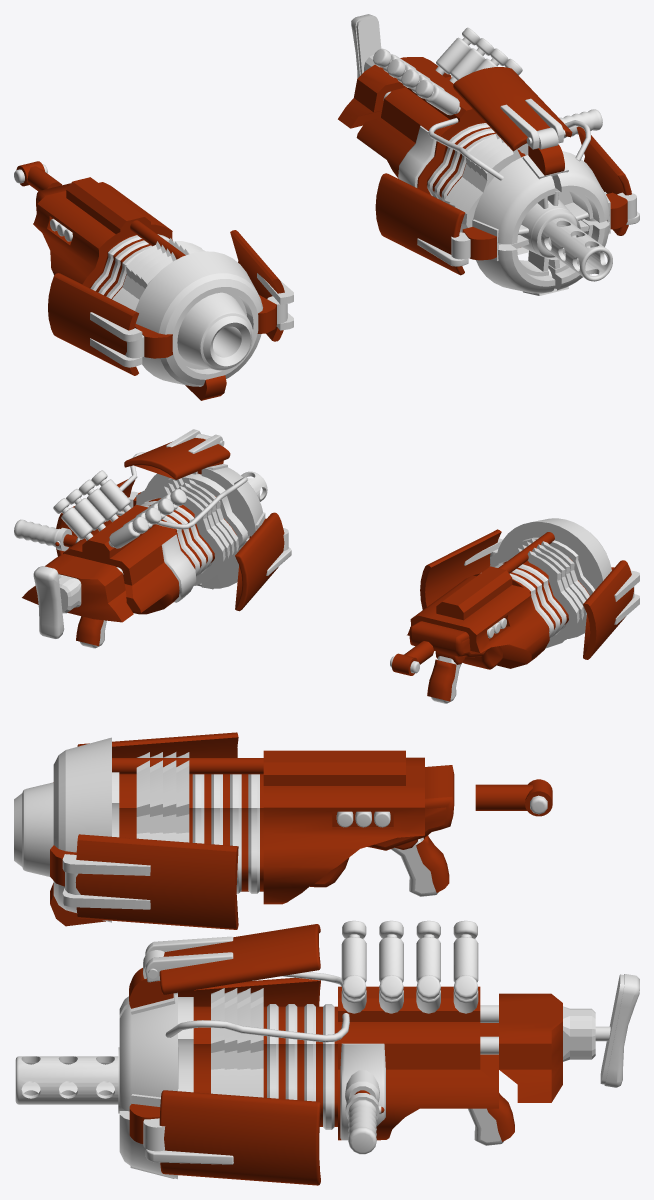
File: railgunv2.fbx
The picture shows the model from 3 angles, top to bottom: view 1: azimuth 30°, elevation 25°; view 2: azimuth 150°, elevation 25°; view 3: azimuth 270°, elevation 25°; orthographic projection. The views are drawn at different scales.
Visible parts, largest first — view 1: Cylinder_2_6, Cylinder_3_11, Cylinder_3_4, Cylinder_1_5, Cylinder_3_3, Cylinder_3_8, Cylinder_3_9, Cylinder_1_2, Cylinder_7, Tube, Cube_4, Cube_3_3 (+26 smaller); view 2: Cylinder_3_11, Cylinder_3_3, Cylinder_3_8, Cylinder_7, Cylinder_3_4, Cylinder_2_6, Cylinder_3_9, Cylinder_1_5, Cube_5, Cylinder_6_4, Cylinder_6_2, Cylinder_19_2 (+29 smaller); view 3: Cylinder_3_11, Cylinder_3_3, Cylinder_3_4, Cylinder_3_8, Cylinder_2_6, Cylinder_3_9, Cylinder_7, Cylinder_1_5, Tube, Cube_5, Cylinder_8_2, Cylinder_19_2 (+43 smaller).
Part boxes in pixels (x1,y1,x2,y2): Cylinder_2_6: (135, 251, 262, 386); Cylinder_3_11: (33, 177, 172, 299); Cylinder_3_4: (375, 126, 631, 275); Cylinder_1_5: (473, 151, 609, 244); Cylinder_3_3: (356, 66, 495, 197); Cylinder_3_8: (48, 230, 284, 375); Cylinder_3_9: (453, 67, 572, 151); Cylinder_1_2: (476, 219, 609, 293); Cylinder_7: (338, 57, 451, 128); Tube: (541, 218, 612, 281); Cube_4: (462, 192, 627, 260); Cube_3_3: (134, 295, 276, 358); Cylinder_3_11: (407, 563, 568, 662); Cylinder_3_3: (63, 500, 213, 614); Cylinder_3_8: (420, 529, 633, 659); Cylinder_7: (22, 553, 133, 622); Cylinder_3_4: (56, 479, 284, 611); Cylinder_2_6: (497, 518, 611, 638); Cylinder_3_9: (124, 438, 230, 479); Cylinder_1_5: (146, 467, 263, 536); Cube_5: (33, 566, 64, 638); Cylinder_6_4: (490, 548, 579, 648); Cylinder_6_2: (136, 486, 225, 585); Cylinder_19_2: (53, 498, 148, 548); Cylinder_3_11: (189, 750, 424, 904); Cylinder_3_3: (263, 986, 498, 1140); Cylinder_3_4: (159, 977, 320, 1185); Cylinder_3_8: (75, 732, 238, 929); Cylinder_2_6: (14, 737, 111, 922); Cylinder_3_9: (159, 924, 320, 994); Cylinder_7: (499, 993, 562, 1102); Cylinder_1_5: (119, 992, 178, 1111); Tube: (15, 1056, 118, 1104); Cube_5: (600, 974, 639, 1087); Cylinder_8_2: (341, 920, 366, 1013); Cylinder_19_2: (453, 920, 478, 1013).
Size of the model in its own units: 489 by 141 by 336.
